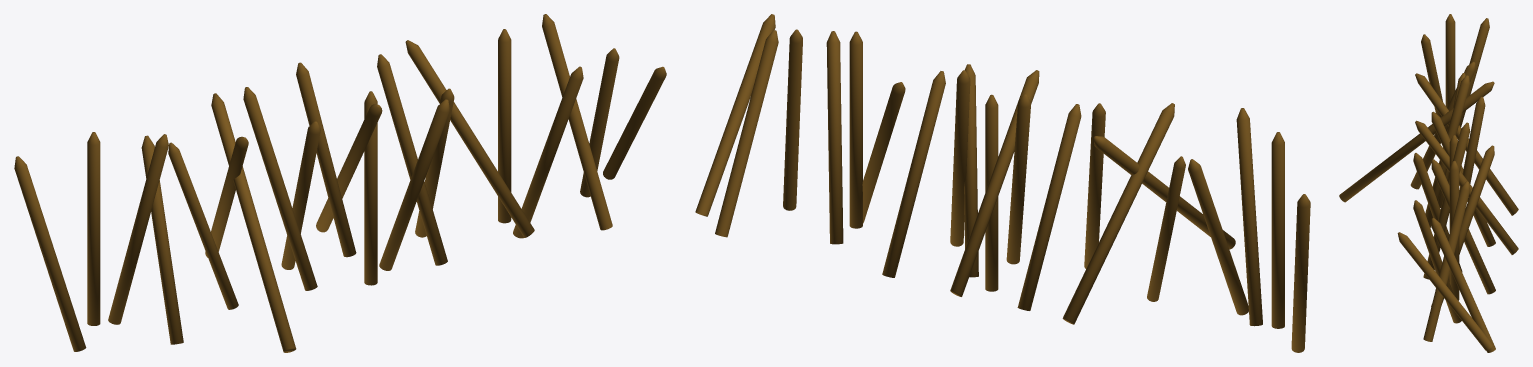
The model's file is Spikes.glb.
3 views of the same model, side by side, from view 1: azimuth 30°, elevation 25°; view 2: azimuth 150°, elevation 25°; view 3: azimuth 270°, elevation 25° (orthographic). The views are drawn at different scales.
Parts seen in each view (by area): view 1: Spikes; view 2: Spikes; view 3: Spikes.
Boxes of the visible parts, x1,y1,x2,y2 form: Spikes: [14, 14, 666, 352]; Spikes: [695, 14, 1310, 352]; Spikes: [1339, 14, 1518, 352].
Size of the model in its own units: 2.16 by 0.7555 by 0.7668.
